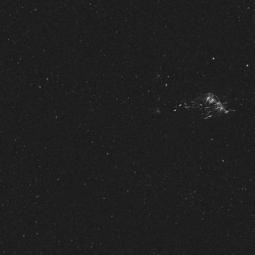lisa_pathfinder: (160, 78, 248, 128)
